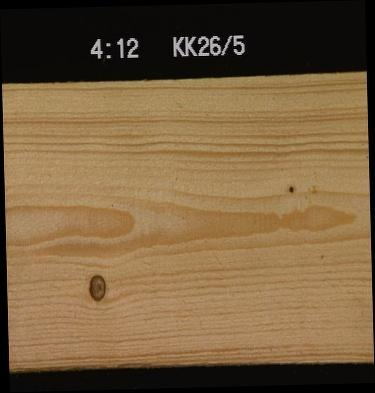dry_knot: (85, 271, 107, 302)
small_knot: (284, 181, 297, 195)
